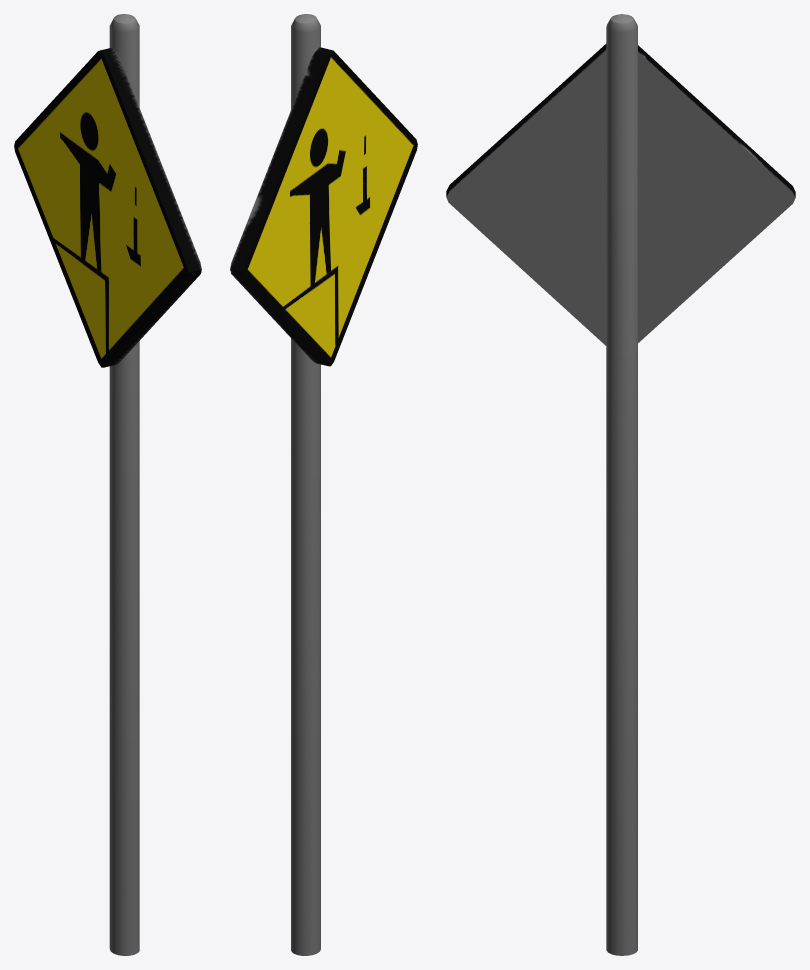
File: Sign_Fixed.fbx
3 views of the same model, side by side, from view 1: azimuth 30°, elevation 25°; view 2: azimuth 150°, elevation 25°; view 3: azimuth 270°, elevation 25° (orthographic).
Parts seen in each view (by area): view 1: pCube14; view 2: pCube14; view 3: pCube14.
Boxes of the visible parts, x1=… form: pCube14: x1=14, y1=14, x2=201, y2=955; pCube14: x1=230, y1=14, x2=417, y2=955; pCube14: x1=446, y1=14, x2=795, y2=955.
Bounding box in the file's own units: 17.19 × 415 × 140.
